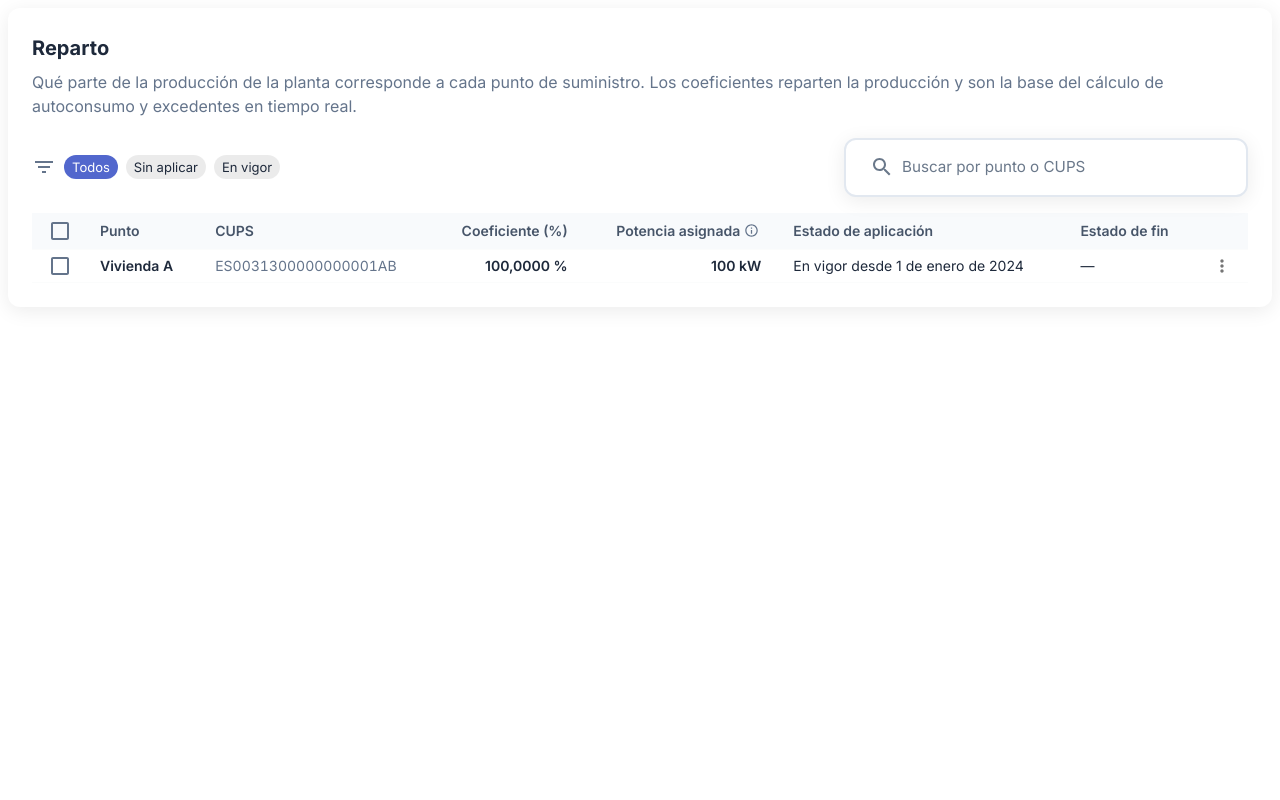
Scenario: CoefficientHistoryDrawer — reachable from every agreement status › shows a name rather than a link for a period the caller may not follow
What coordinates should you click on to do the following:
click the button named "Más acciones"
I would click on:
 (1222, 266)
Its box is [1212,256,1232,276].
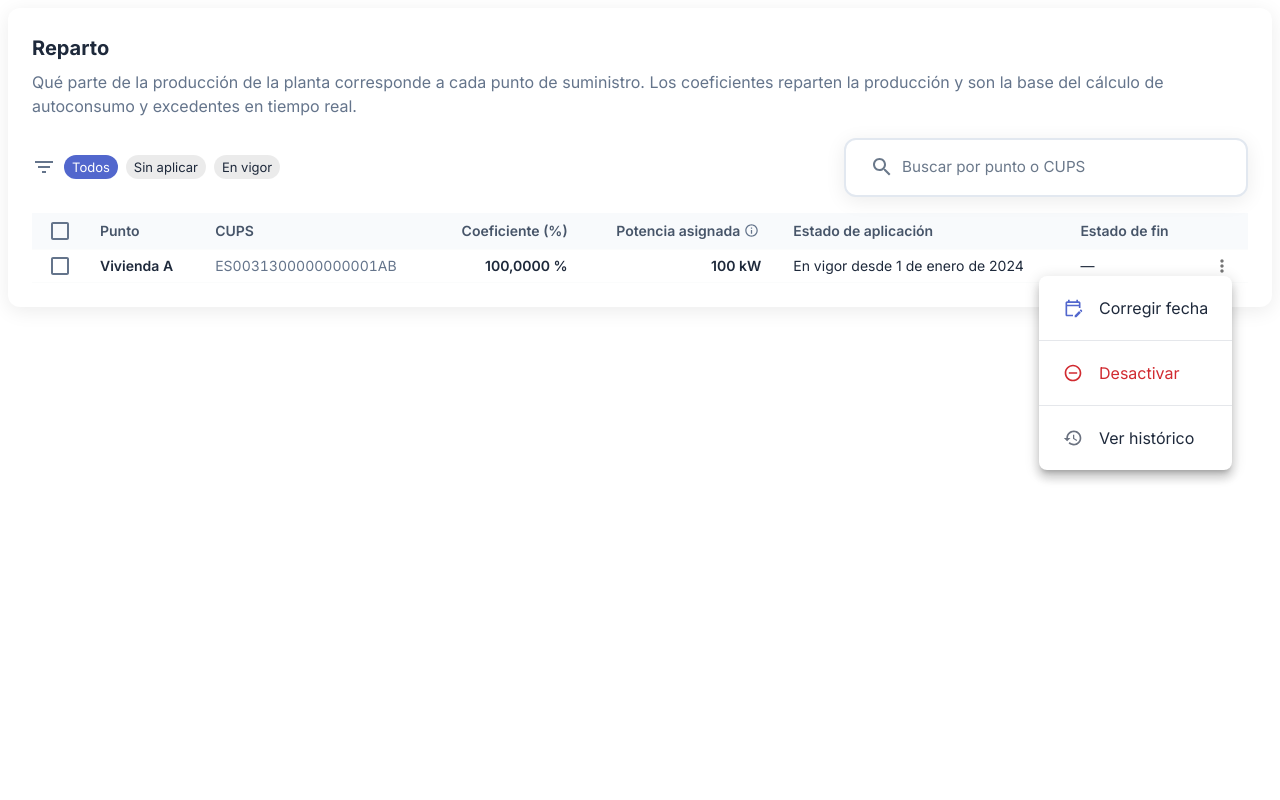
What coordinates should you click on to do the following:
click the menu item "Ver histórico"
I would click on:
 (1129, 438)
Its box is [1063,428,1194,448].
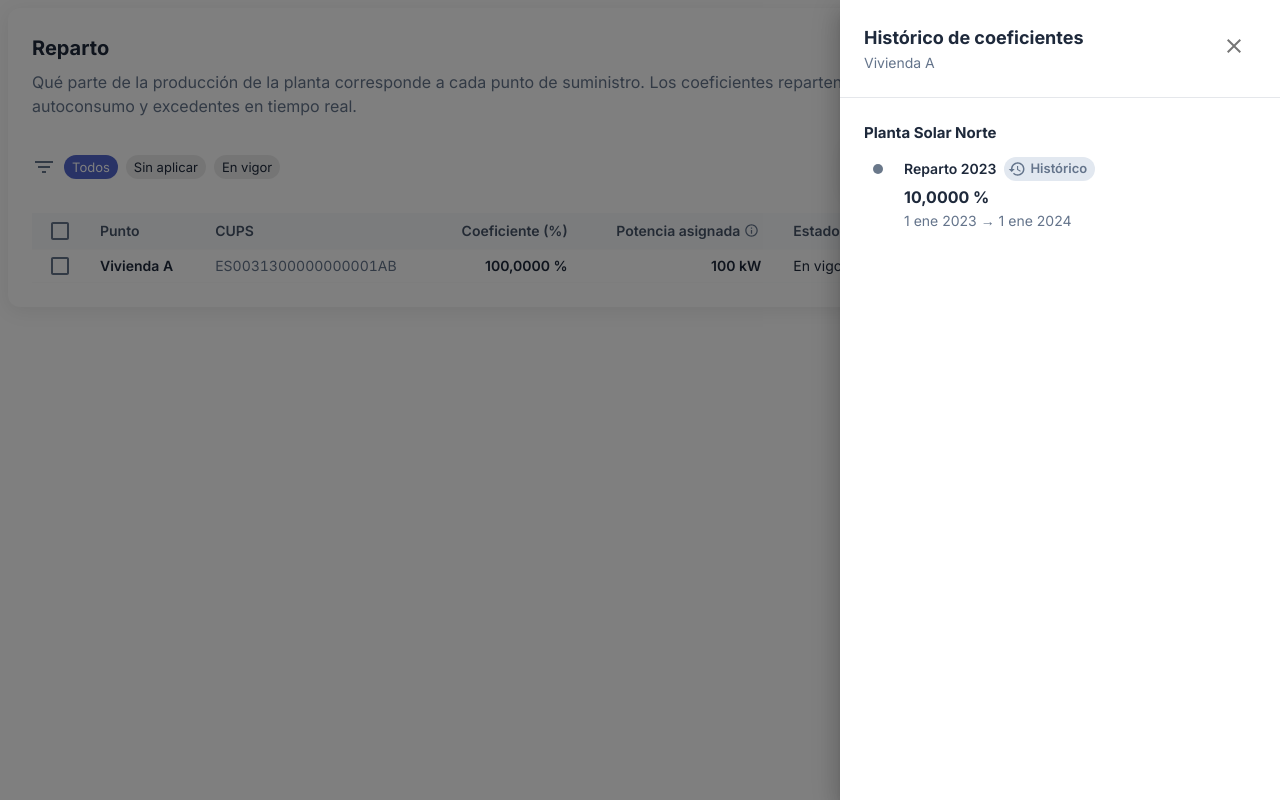
Expected: the text "Reparto 2023" is shown, [904,158,996,178]
